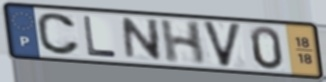0: (248, 24, 286, 72)
C: (35, 11, 82, 57)
H: (158, 19, 208, 67)
L: (81, 14, 119, 59)
N: (120, 16, 164, 62)
V: (200, 20, 244, 70)
